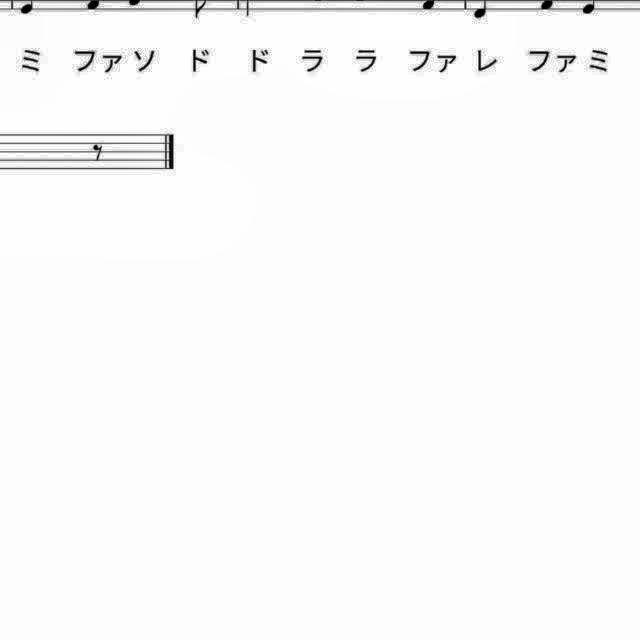Eighth-rest: (84, 138, 106, 166)
